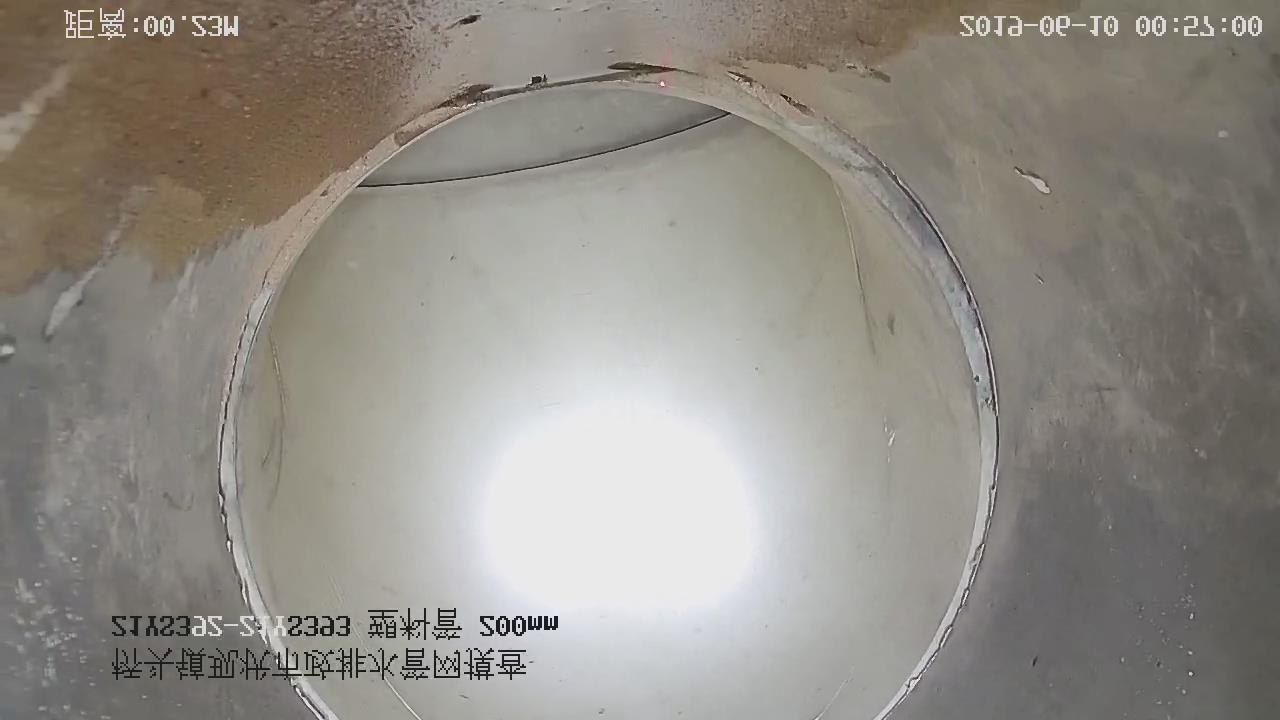CKTJ: (217, 66, 998, 720)
